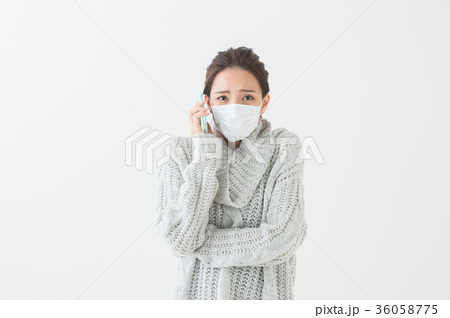mask: (209, 102, 261, 147)
